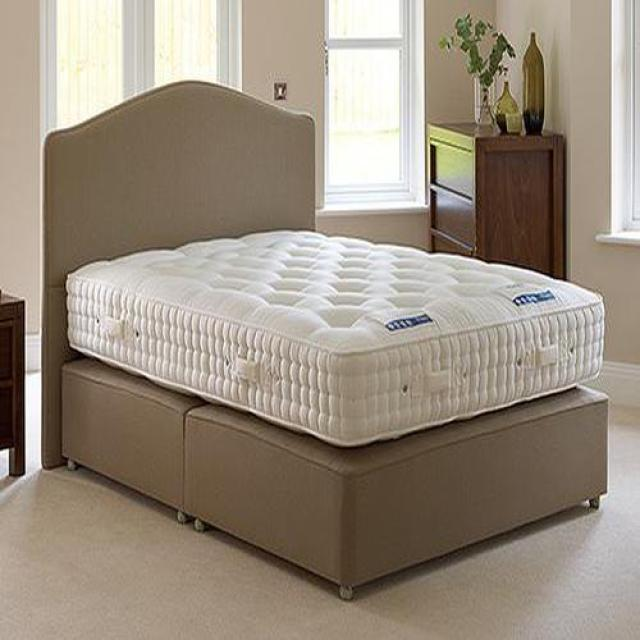bed: (44, 81, 611, 602)
